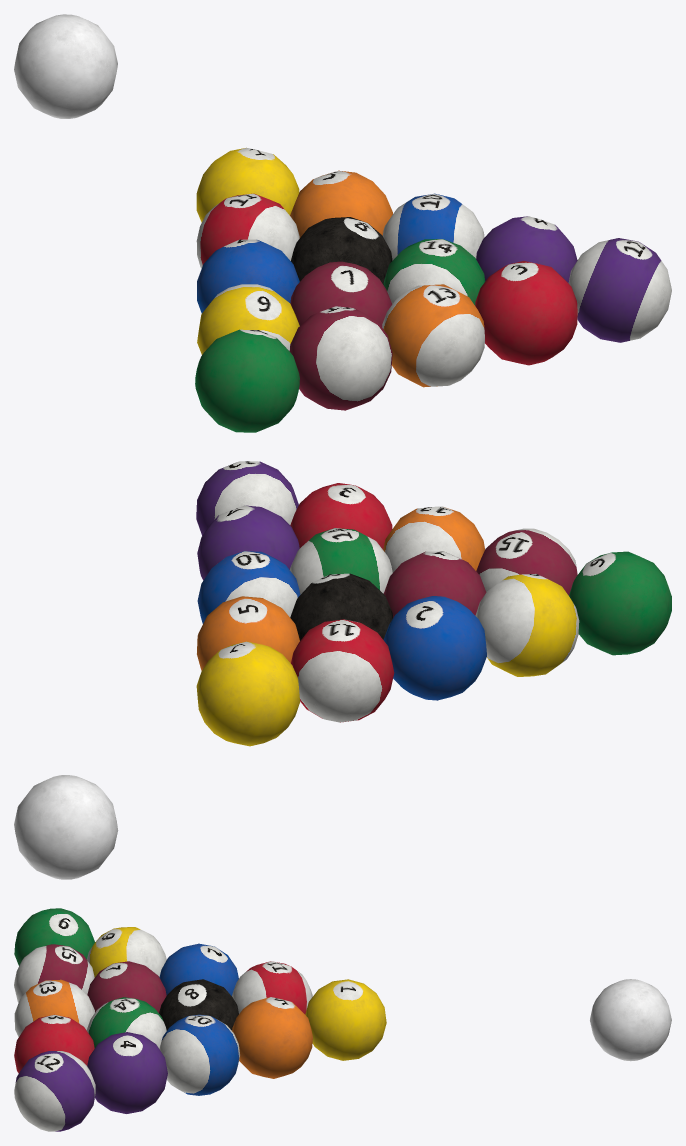
File: kibako_balls.fbx
3 views of the same model, one above another, from view 1: azimuth 30°, elevation 25°; view 2: azimuth 150°, elevation 25°; view 3: azimuth 270°, elevation 25° (orthographic). The views are drawn at different scales.
Parts seen in each view (by area): view 1: ball_6, ball_16, ball_12, ball_13, ball_15, ball_3, ball_1, ball_11, ball_2, ball_9, ball_8, ball_14 (+4 smaller); view 2: ball_16, ball_1, ball_2, ball_11, ball_6, ball_9, ball_5, ball_12, ball_4, ball_10, ball_8, ball_14 (+4 smaller); view 3: ball_16, ball_12, ball_1, ball_4, ball_5, ball_10, ball_6, ball_3, ball_15, ball_13, ball_11, ball_2 (+4 smaller).
Part boxes in pixels (x1,y1,x2,y2): ball_6: (195,329,299,432); ball_16: (14,14,117,118); ball_12: (568,238,671,342); ball_13: (382,284,484,387); ball_15: (289,306,392,410); ball_3: (475,261,577,365); ball_1: (196,147,299,222); ball_11: (196,193,299,268); ball_2: (197,239,299,313); ball_9: (197,284,299,354); ball_8: (291,217,392,284); ball_14: (383,239,485,305); ball_16: (14,775,118,879); ball_1: (196,641,299,746); ball_2: (383,596,486,700); ball_11: (291,619,394,722); ball_6: (569,551,671,655); ball_9: (475,573,579,676); ball_5: (197,596,299,670); ball_12: (196,461,298,535); ball_4: (197,505,299,580); ball_10: (197,551,300,623); ball_8: (290,573,392,640); ball_14: (290,528,392,594); ball_16: (590,979,671,1061); ball_12: (14,1051,95,1131); ball_1: (305,979,386,1060); ball_4: (87,1032,167,1113); ball_5: (232,997,312,1078); ball_10: (159,1014,239,1095); ball_6: (14,908,95,965); ball_3: (14,1014,94,1073); ball_15: (14,944,94,1002); ball_13: (14,979,94,1036); ball_11: (232,961,312,1014); ball_2: (159,943,238,995).
Bounding box in the file's own units: 29.09 × 5.71 × 45.73.
